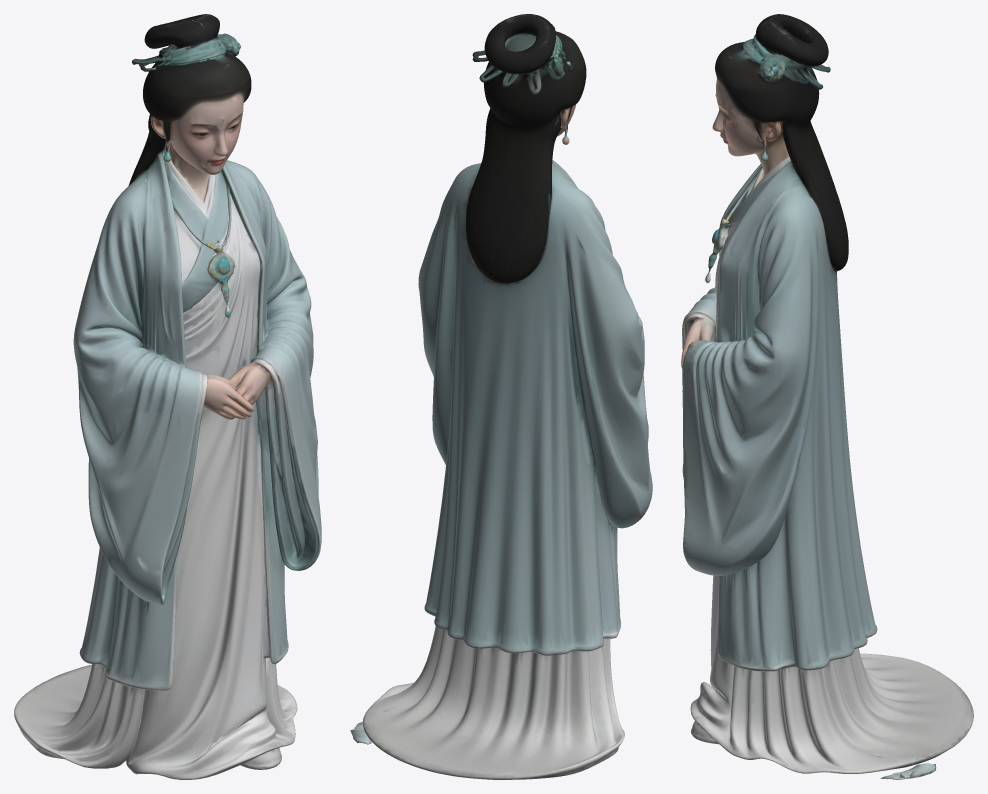
File: miao_yu.glb
The picture shows the model from 3 angles, left to right: view 1: azimuth 30°, elevation 25°; view 2: azimuth 150°, elevation 25°; view 3: azimuth 270°, elevation 25°; orthographic projection. The views are drawn at different scales.
Parts seen in each view (by area): view 1: node_0; view 2: node_0; view 3: node_0.
Boxes of the visible parts, x1,y1,x2,y2 form: node_0: (14,14,321,779); node_0: (350,14,652,779); node_0: (681,14,973,779).
Size of the model in its own units: 0.3887 by 1.11 by 0.4176.
1 material, 1 textured.
